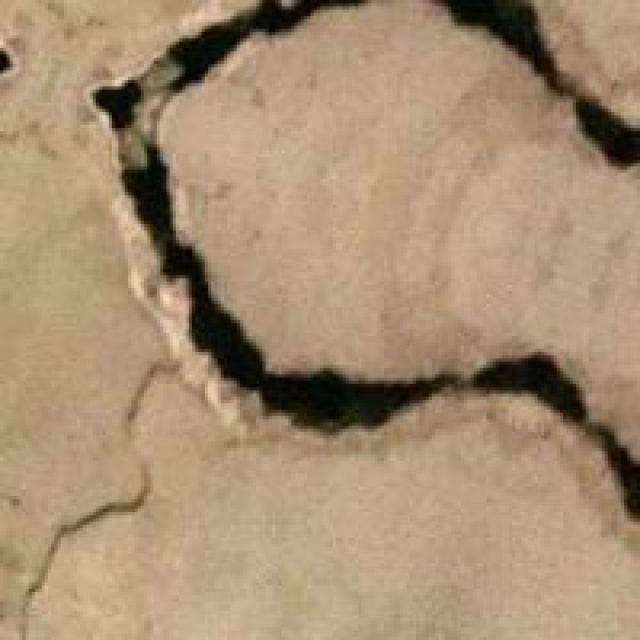Crack: (64, 0, 637, 608)
